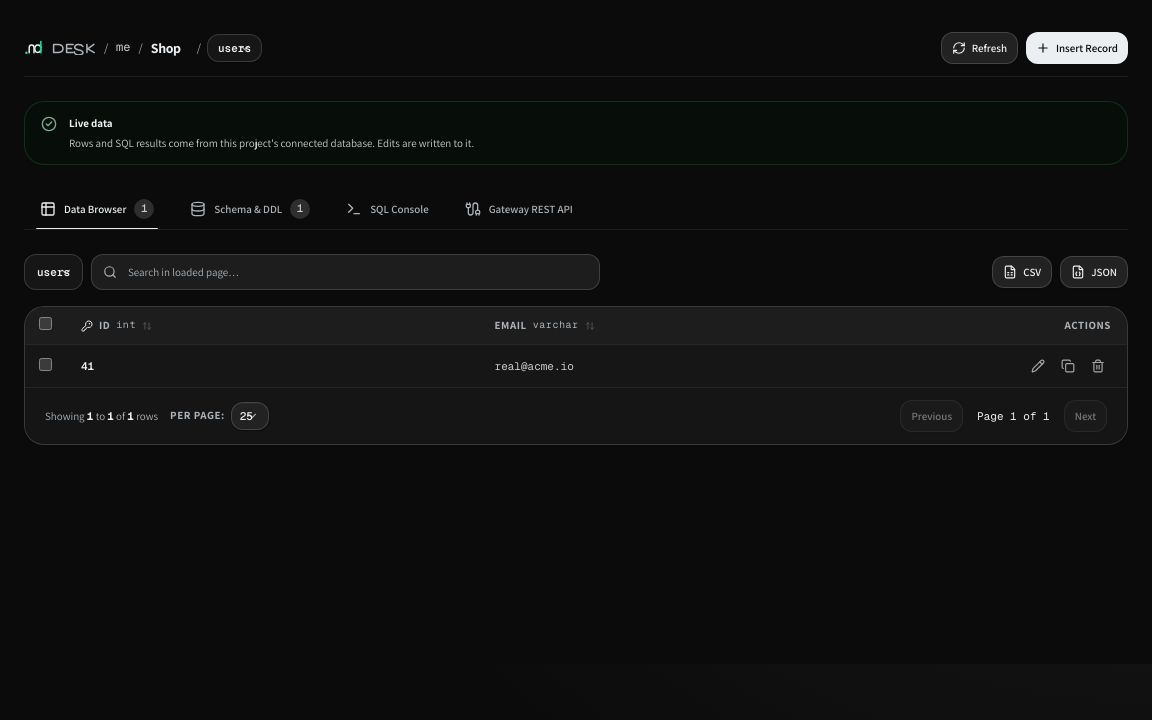
ProjectDeskStudio canlı / örnek mod › canlı modda SQL konsolu desk-sql çalıştırır; 403 not-enabled ipucunu gösterir
expect the text "real@acme.io" is shown: met, box [478, 345, 1009, 387]
Click the tab "SQL Console".
click(387, 209)  # box [330, 189, 445, 229]
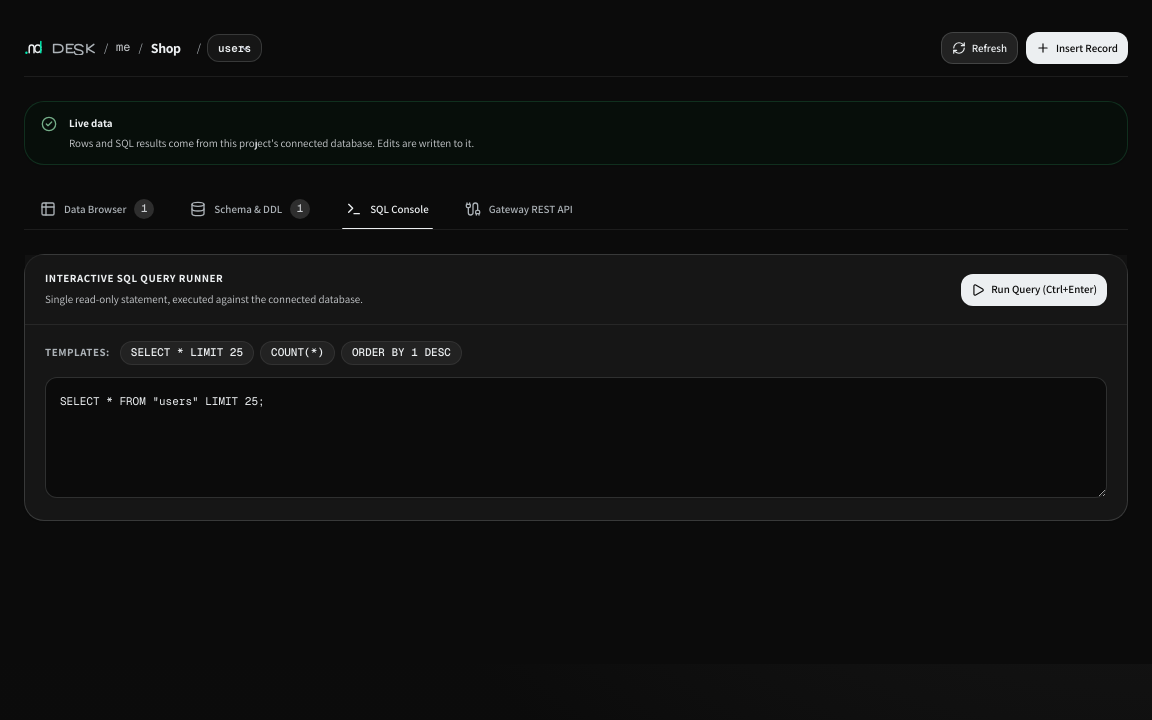
Click the button "Run Query (Ctrl+Enter)".
click(1034, 290)  # box [961, 274, 1107, 306]
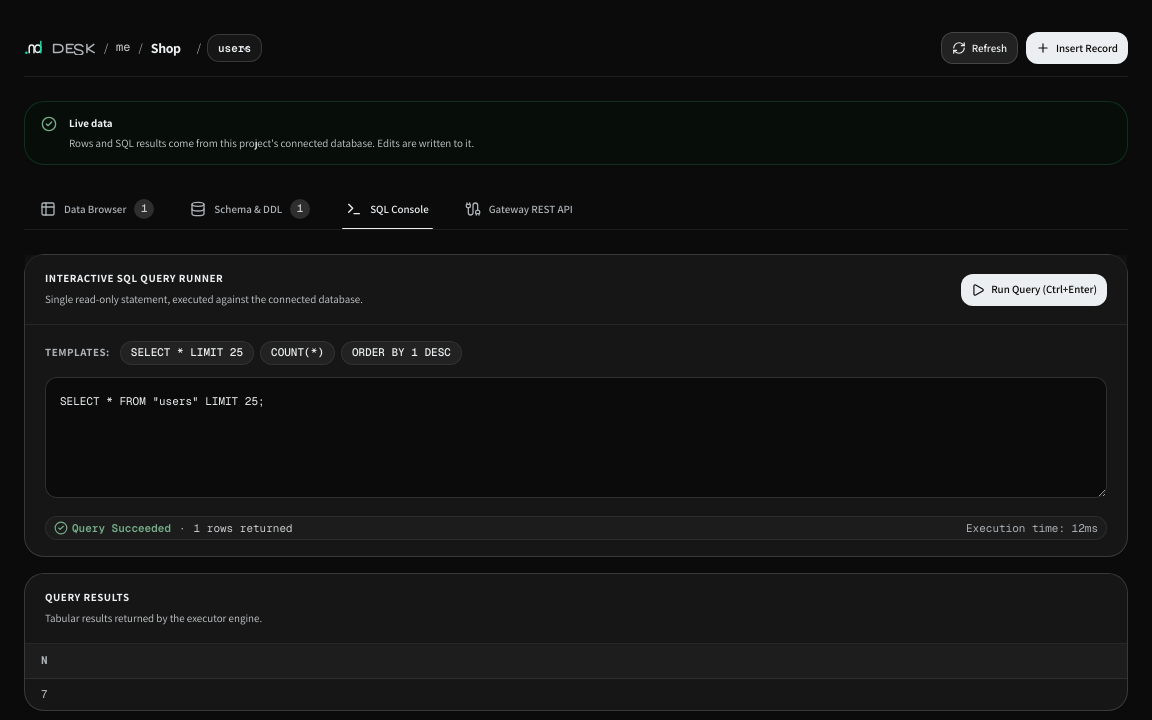
expect the text "Execution time: 12ms" is shown: met, box [966, 521, 1098, 536]
expect the text "7" is shown: met, box [25, 679, 1127, 710]
Click the button "Run Query (Ctrl+Enter)".
click(1034, 290)  # box [961, 274, 1107, 306]
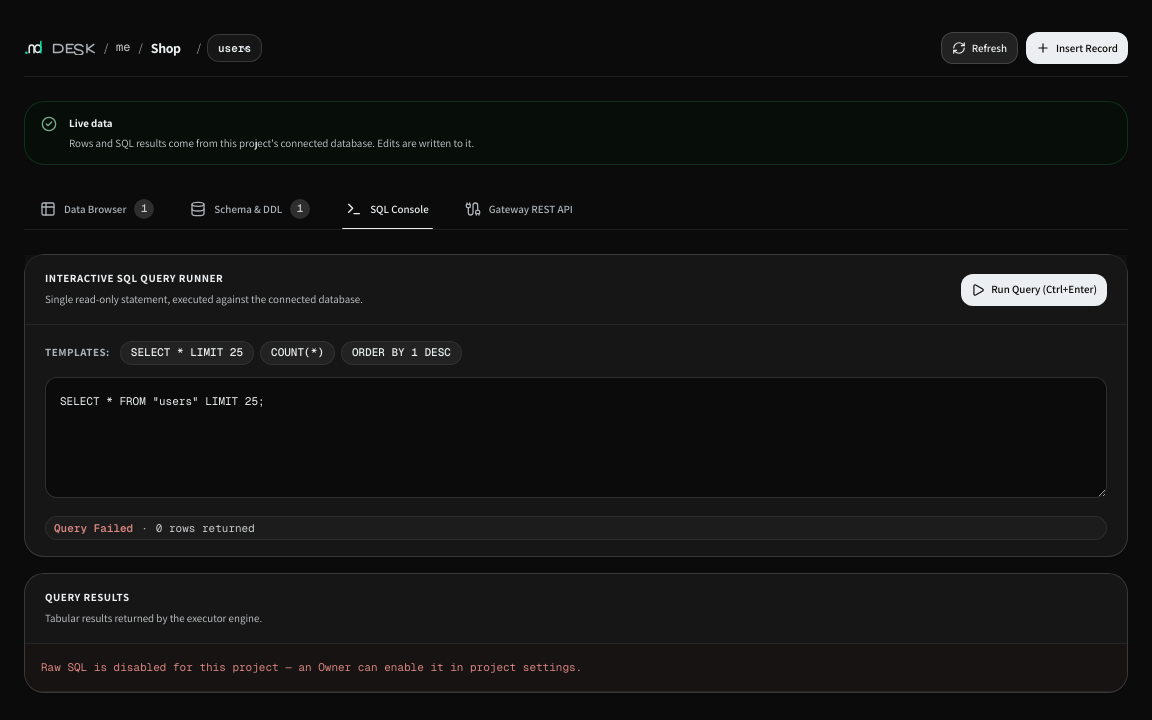
expect the text "Raw SQL is disabled for this project" is shown: met, box [41, 660, 582, 674]
